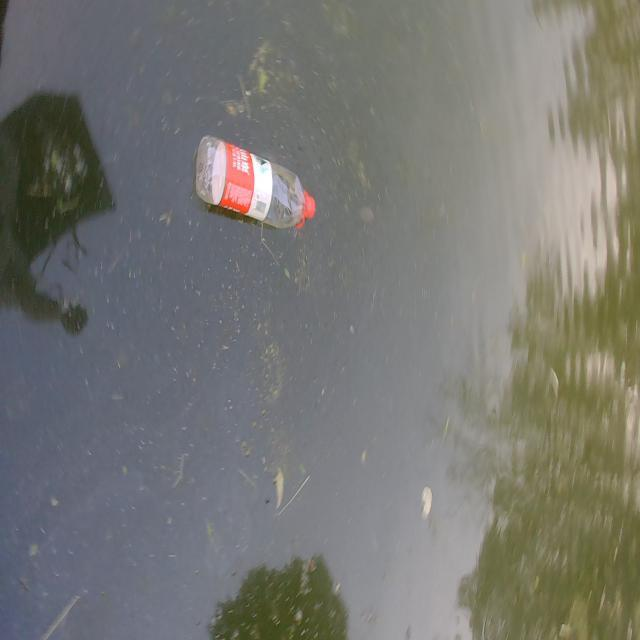bottle: (174, 104, 337, 258)
